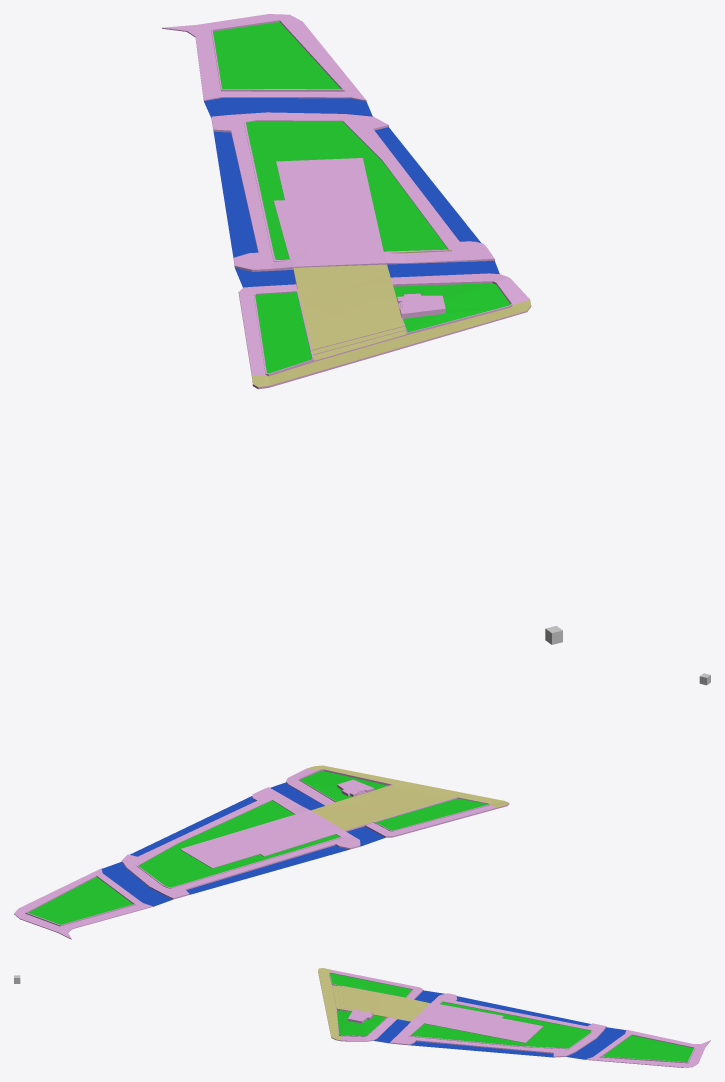
The model's file is praçaigrejacompleta.fbx.
3 views of the same model, one above another, from view 1: azimuth 30°, elevation 25°; view 2: azimuth 150°, elevation 25°; view 3: azimuth 270°, elevation 25° (orthographic). The views are drawn at different scales.
Parts seen in each view (by area): view 1: Praca Igreja; view 2: Praca Igreja; view 3: Praca Igreja.
Boxes of the visible parts, x1=… form: Praca Igreja: x1=162, y1=14, x2=531, y2=389; Praca Igreja: x1=14, y1=765, x2=509, y2=939; Praca Igreja: x1=318, y1=968, x2=710, y2=1067.
Size of the model in its own units: 7480 by 618 by 21550.
